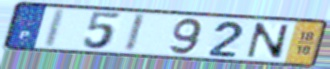2: (203, 18, 248, 59)
5: (82, 11, 125, 51)
9: (167, 17, 204, 56)
I: (40, 7, 69, 50), (122, 12, 148, 53)
N: (245, 21, 291, 61)
